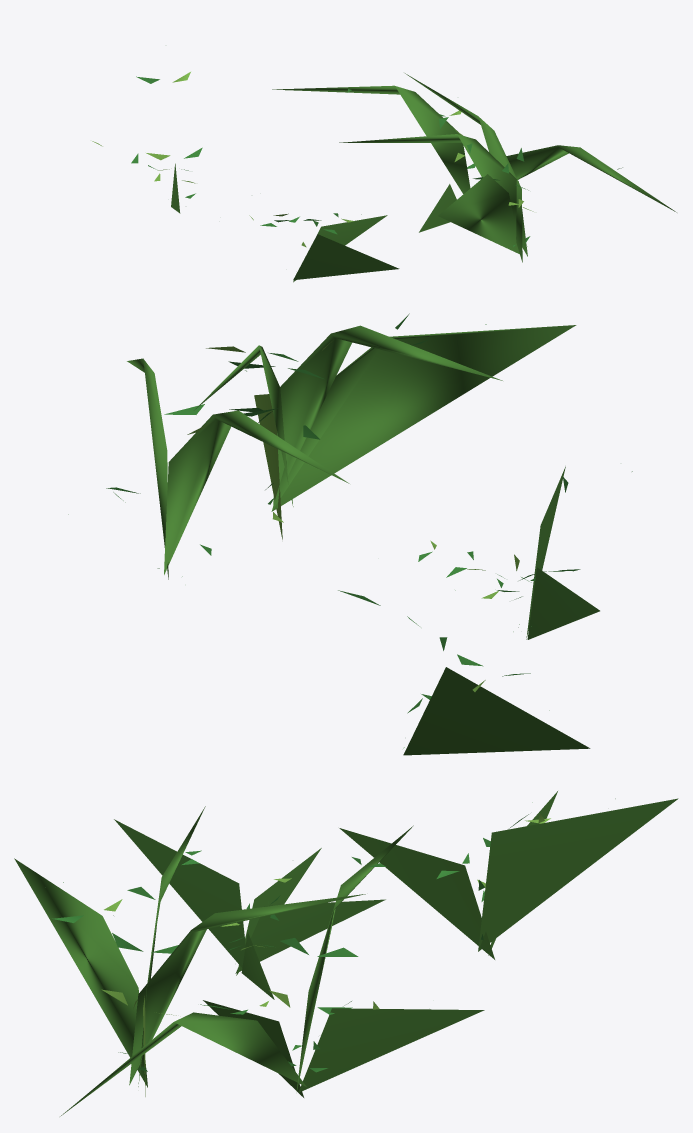
File: canopy_gc_fernlets_b_lod2.glb
3 views of the same model, one above another, from view 1: azimuth 30°, elevation 25°; view 2: azimuth 150°, elevation 25°; view 3: azimuth 270°, elevation 25° (orthographic). The views are drawn at different scales.
Parts seen in each view (by area): view 1: canopy_gc_fernlets_b.001; view 2: canopy_gc_fernlets_b.001; view 3: canopy_gc_fernlets_b.001.
Boxes of the visible parts, x1=… form: canopy_gc_fernlets_b.001: x1=92, y1=72, x2=676, y2=282; canopy_gc_fernlets_b.001: x1=68, y1=313, x2=632, y2=755; canopy_gc_fernlets_b.001: x1=14, y1=791, x2=678, y2=1116.
Size of the model in its own units: 5.77 by 1.79 by 5.34.
